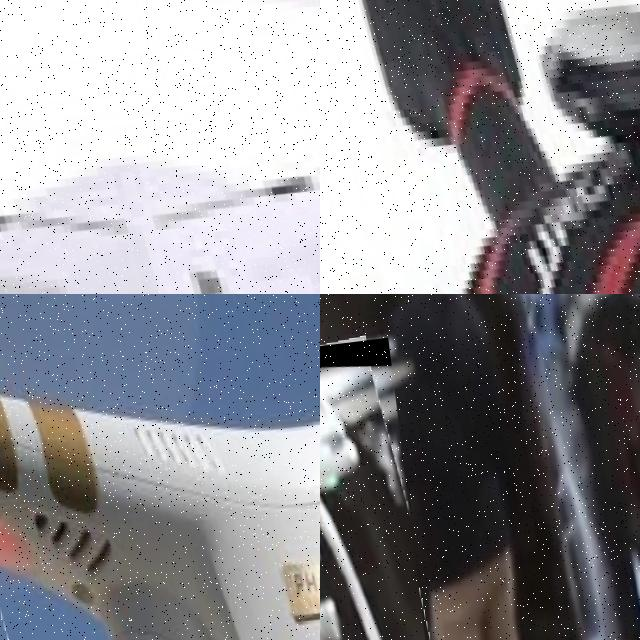0: (320, 337, 432, 640)
drone: (0, 294, 320, 640), (0, 0, 320, 294), (320, 0, 640, 294)
